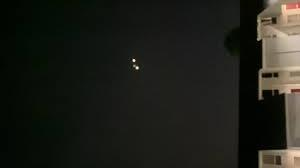Plane: (118, 48, 151, 78)
